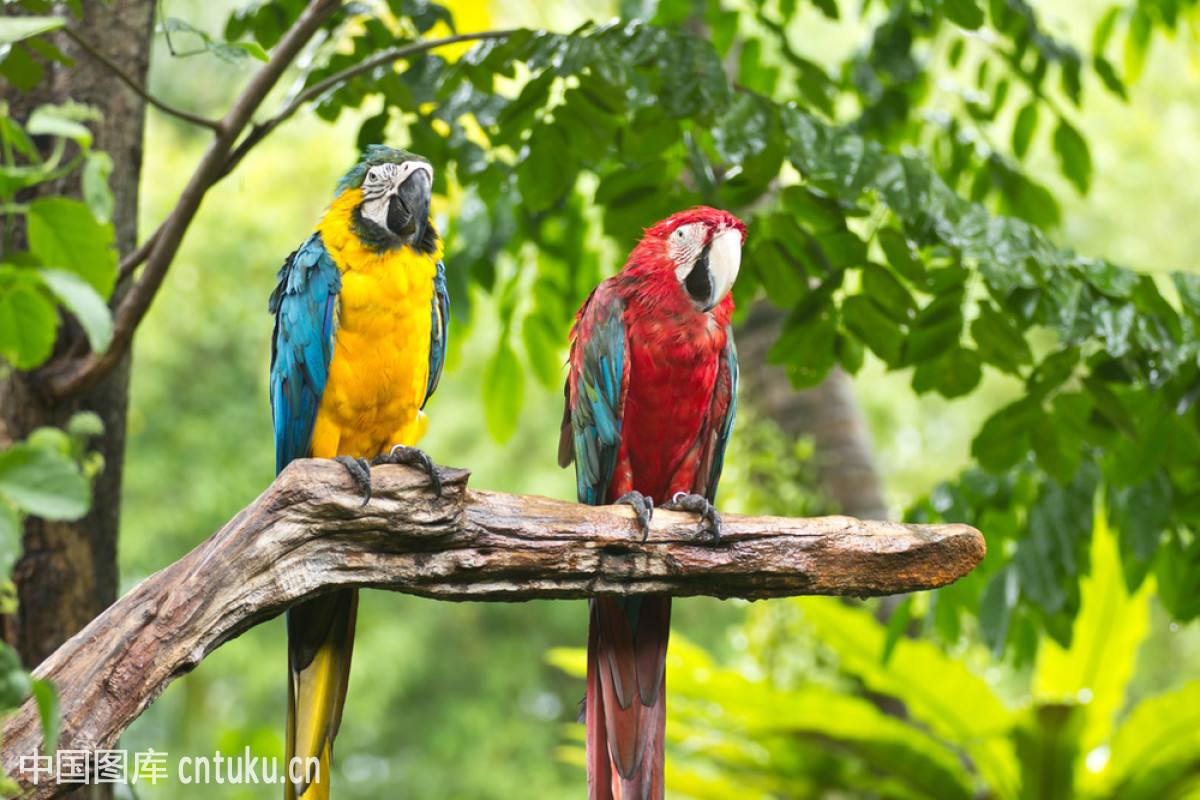bird: (269, 146, 462, 461), (556, 202, 755, 505)
